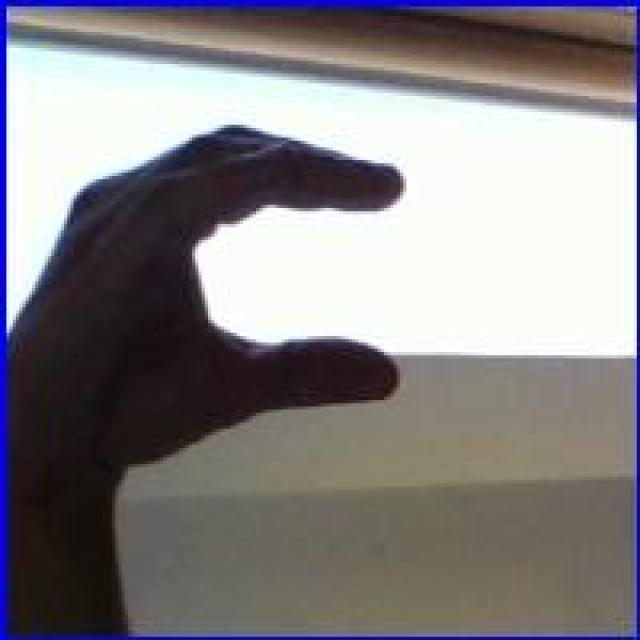C: (27, 115, 411, 480)
